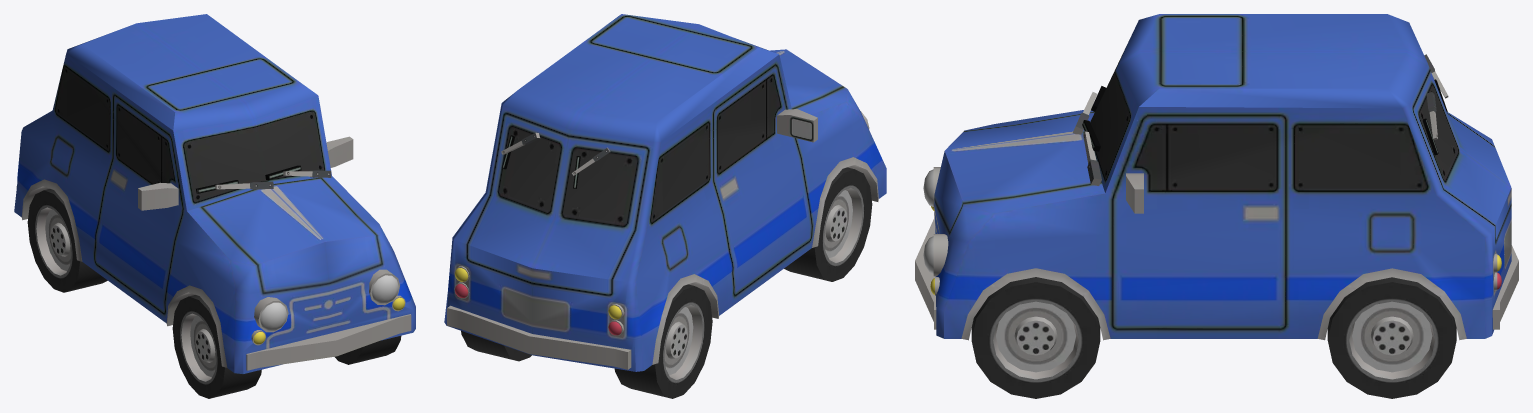
Rendered from eRu2kPYOCa7.glb.
The picture shows the model from 3 angles, left to right: view 1: azimuth 30°, elevation 25°; view 2: azimuth 150°, elevation 25°; view 3: azimuth 270°, elevation 25°; orthographic projection. The views are drawn at different scales.
Visible parts, largest first — view 1: Car; view 2: Car; view 3: Car.
Boxes of the visible parts, left/top/right/bottom form: Car: left=14, top=14, right=415, bottom=398; Car: left=444, top=14, right=886, bottom=398; Car: left=915, top=14, right=1518, bottom=398.
Bounding box in the file's own units: 0.9242 × 1 × 1.86.
Materials: 1 (1 with a texture image).
